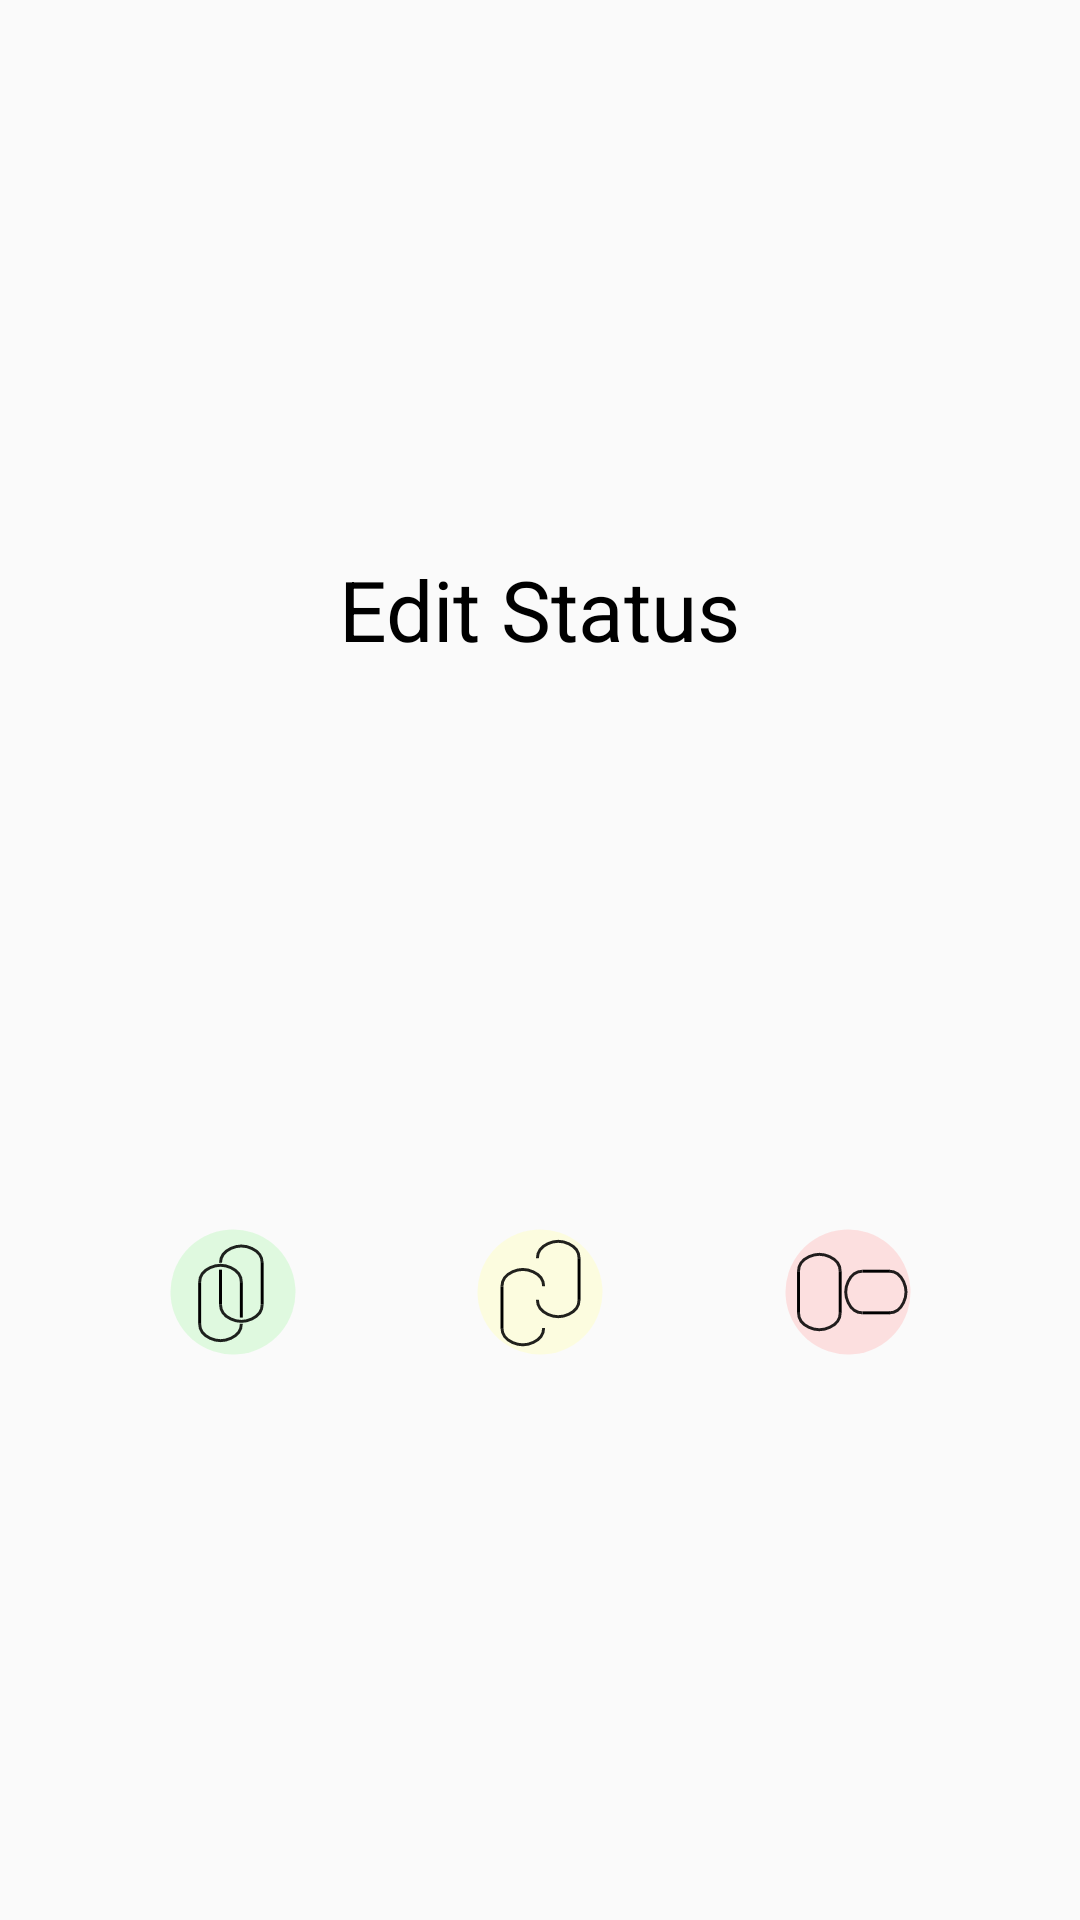

Screen size 1080x1920. Icon name, then its box in pixels as rect(x1, y1, x2, y2):
link candidate: rect(478, 1230, 602, 1354)
link confirmed: rect(171, 1230, 295, 1354)
link rejected: rect(786, 1230, 910, 1354)
